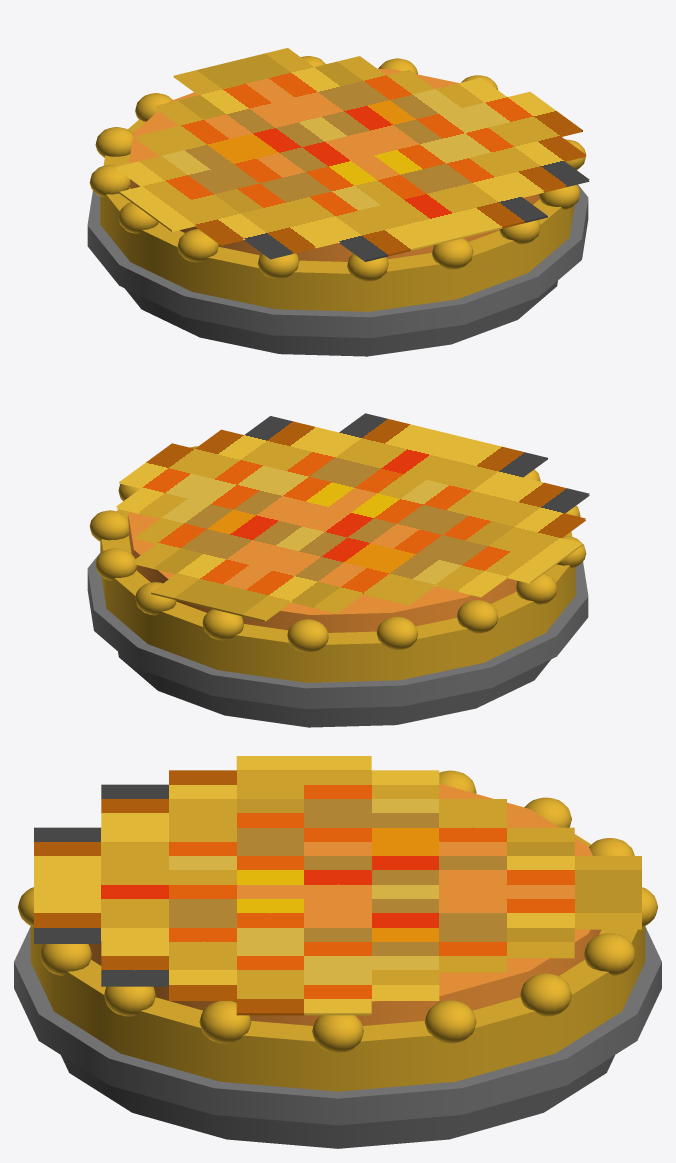
File: CMU3DBakedPieApple.glb
3 views of the same model, one above another, from view 1: azimuth 30°, elevation 25°; view 2: azimuth 150°, elevation 25°; view 3: azimuth 270°, elevation 25° (orthographic). The views are drawn at different scales.
Visible parts, largest first — view 1: original pastry lattice and filling, solid pastry shell, rolled pan lip, metal pie pan, baked filling, crimped crust edge 10, crimped crust edge 13, crimped crust edge 8, crimped crust edge 7, crimped crust edge 12, crimped crust edge 11, crimped crust edge 9 (+3 smaller); view 2: original pastry lattice and filling, solid pastry shell, rolled pan lip, metal pie pan, baked filling, crimped crust edge 6, crimped crust edge 7, crimped crust edge 8, crimped crust edge 3, crimped crust edge 2, crimped crust edge 5, crimped crust edge 9 (+1 smaller); view 3: original pastry lattice and filling, solid pastry shell, rolled pan lip, metal pie pan, baked filling, crimped crust edge 2, crimped crust edge 3, crimped crust edge 4, crimped crust edge 16, crimped crust edge 1, crimped crust edge 14, crimped crust edge 15 (+3 smaller).
Part boxes in pixels (x1,y1,x2,y2): original pastry lattice and filling: (116, 48, 589, 261); solid pastry shell: (100, 119, 574, 311); rolled pan lip: (87, 184, 588, 337); metal pie pan: (125, 281, 557, 356); baked filling: (129, 68, 539, 261); crimped crust edge 10: (177, 229, 218, 262); crimped crust edge 13: (432, 238, 473, 269); crimped crust edge 8: (89, 164, 130, 197); crimped crust edge 7: (95, 127, 133, 157); crimped crust edge 12: (347, 253, 388, 281); crimped crust edge 11: (258, 253, 299, 278); crimped crust edge 9: (118, 202, 158, 233); original pastry lattice and filling: (116, 413, 589, 621); solid pastry shell: (100, 509, 575, 682); rolled pan lip: (87, 553, 588, 708); metal pie pan: (118, 652, 550, 727); baked filling: (128, 512, 517, 632); crimped crust edge 6: (287, 619, 328, 652); crimped crust edge 7: (376, 616, 417, 649); crimped crust edge 8: (457, 600, 498, 633); crimped crust edge 3: (95, 548, 136, 580); crimped crust edge 2: (89, 510, 128, 541); crimped crust edge 5: (202, 609, 243, 640); crimped crust edge 9: (516, 573, 557, 604); original pastry lattice and filling: (34, 756, 641, 1015); solid pastry shell: (30, 834, 645, 1091); rolled pan lip: (14, 927, 661, 1125); metal pie pan: (61, 1055, 614, 1148); baked filling: (88, 784, 600, 1025); crimped crust edge 2: (424, 1000, 476, 1043); crimped crust edge 3: (520, 973, 571, 1016); crimped crust edge 4: (584, 933, 635, 975); crimped crust edge 16: (199, 1001, 251, 1043); crimped crust edge 1: (312, 1015, 363, 1052); crimped crust edge 14: (40, 944, 91, 975); crimped crust edge 15: (104, 986, 155, 1016).
Size of the model in its own units: 0.5488 by 0.132 by 0.5488.
5 materials, 1 textured.
